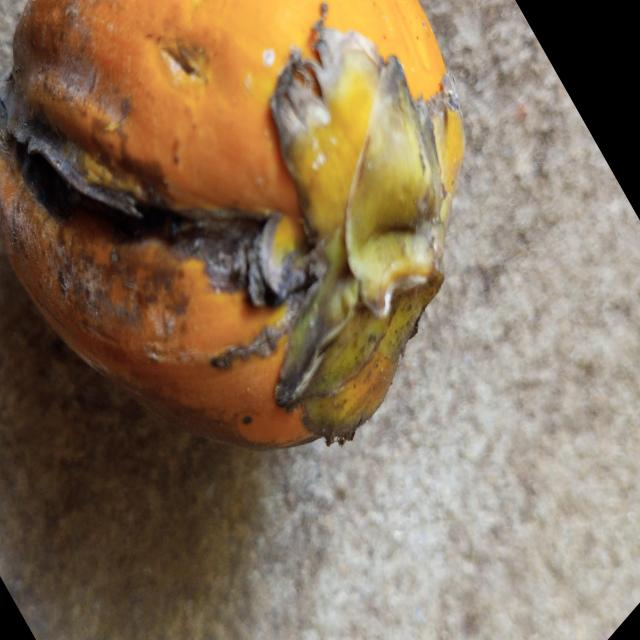damaged: (0, 0, 464, 447)
